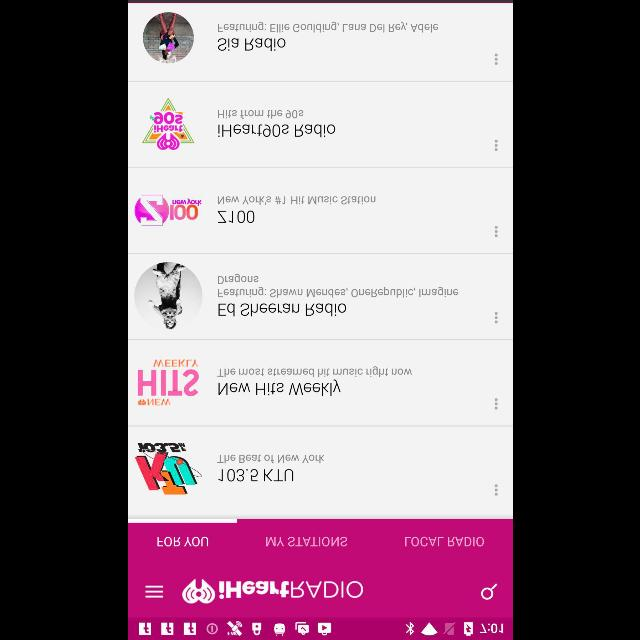icon: (479, 582, 496, 600), (144, 584, 162, 598), (494, 139, 498, 151), (494, 225, 498, 237), (493, 312, 497, 324), (494, 398, 498, 410), (494, 484, 498, 496), (494, 53, 496, 65)
image: (182, 578, 362, 604), (134, 262, 202, 330), (134, 442, 202, 494), (136, 360, 198, 406), (142, 12, 194, 64), (142, 98, 194, 150), (134, 194, 200, 226)
text: (217, 274, 458, 298), (217, 22, 438, 32), (216, 367, 412, 378), (218, 379, 340, 395), (218, 124, 334, 138), (217, 304, 345, 316), (217, 197, 375, 206), (216, 454, 324, 464), (218, 468, 292, 482), (217, 38, 285, 52), (404, 537, 484, 547), (266, 536, 346, 546), (218, 110, 302, 118), (156, 536, 208, 546), (216, 210, 254, 223)
uppertaskbar: (128, 617, 512, 639)
